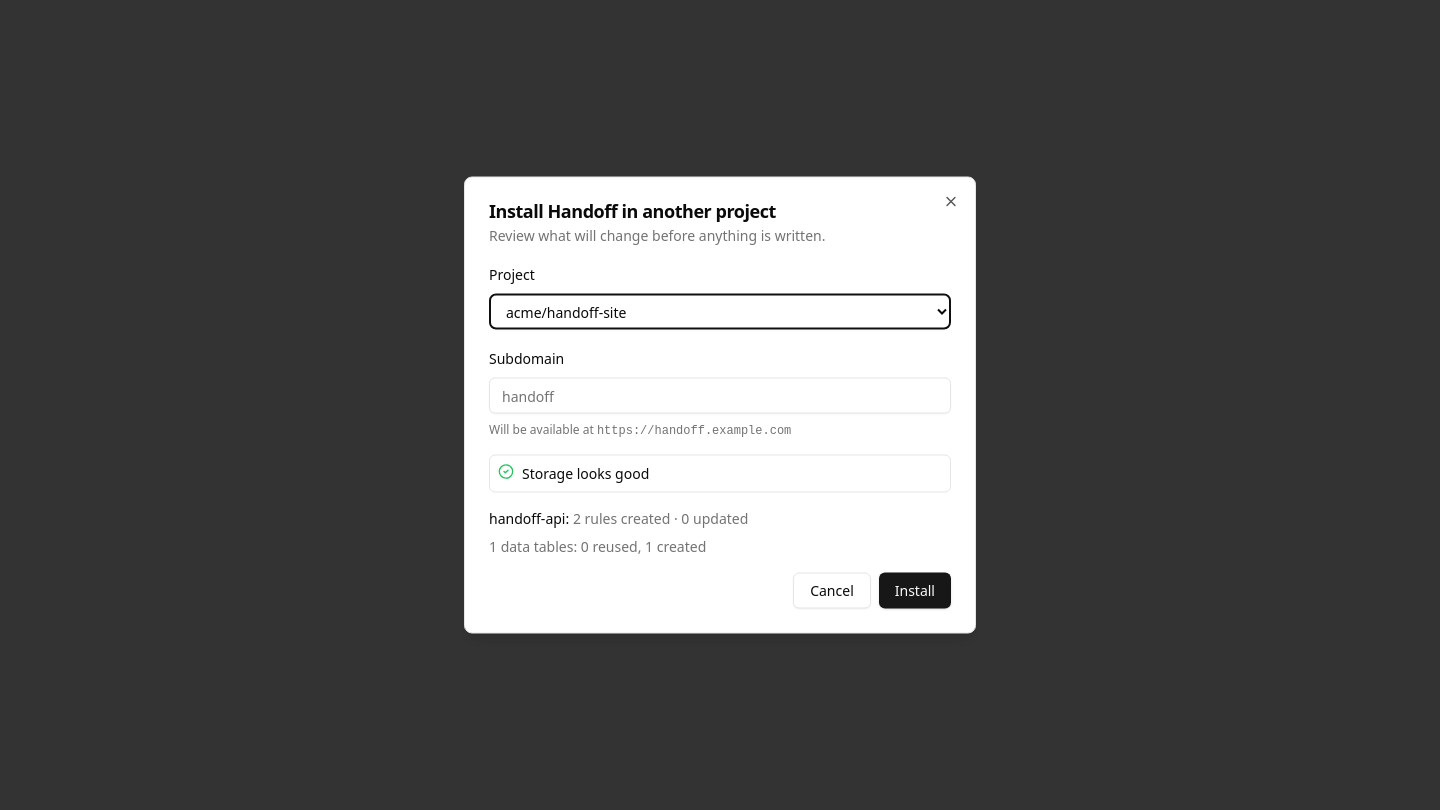
InstallDialog — Done screen › prefers the durable catalog install’s manual steps (matched by the job’s installedAppId) over the job’s
Click the button "Install" at [915, 590], box [879,572,951,608]
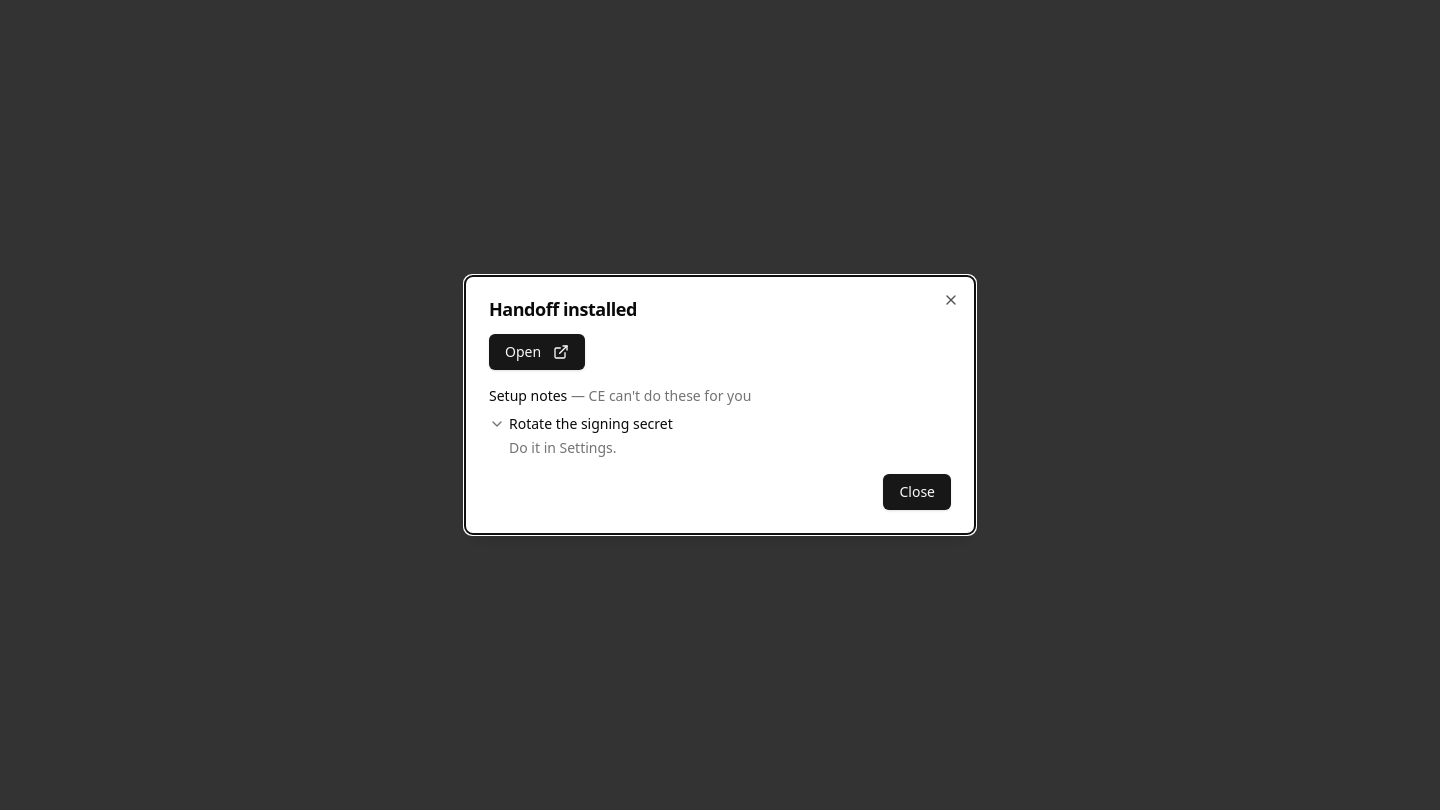
Expected: the text "Rotate the signing secret" is shown, [509,414,673,434]
